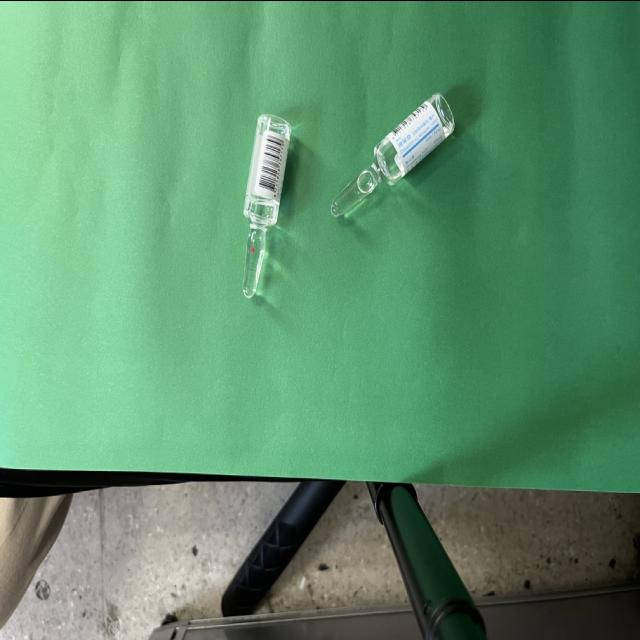Ampoules: (331, 93, 455, 216), (243, 114, 292, 297)
